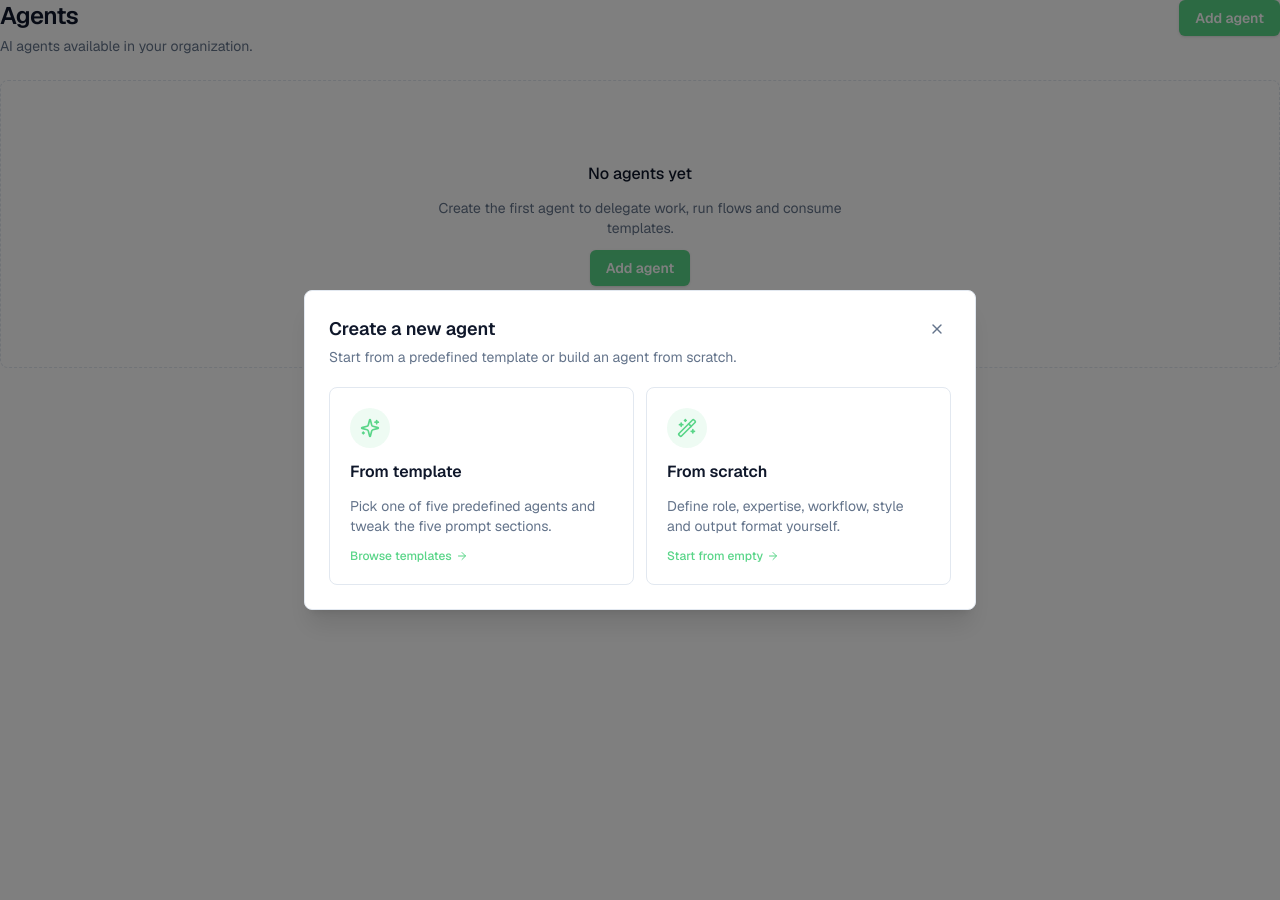
Test case: AgentsListPage › should close the dialog and navigate back to /agents when Close is clicked
This screenshot has width=1280, height=900.
Click the button named "close".
click(937, 329)  # box 923,315 -> 951,343
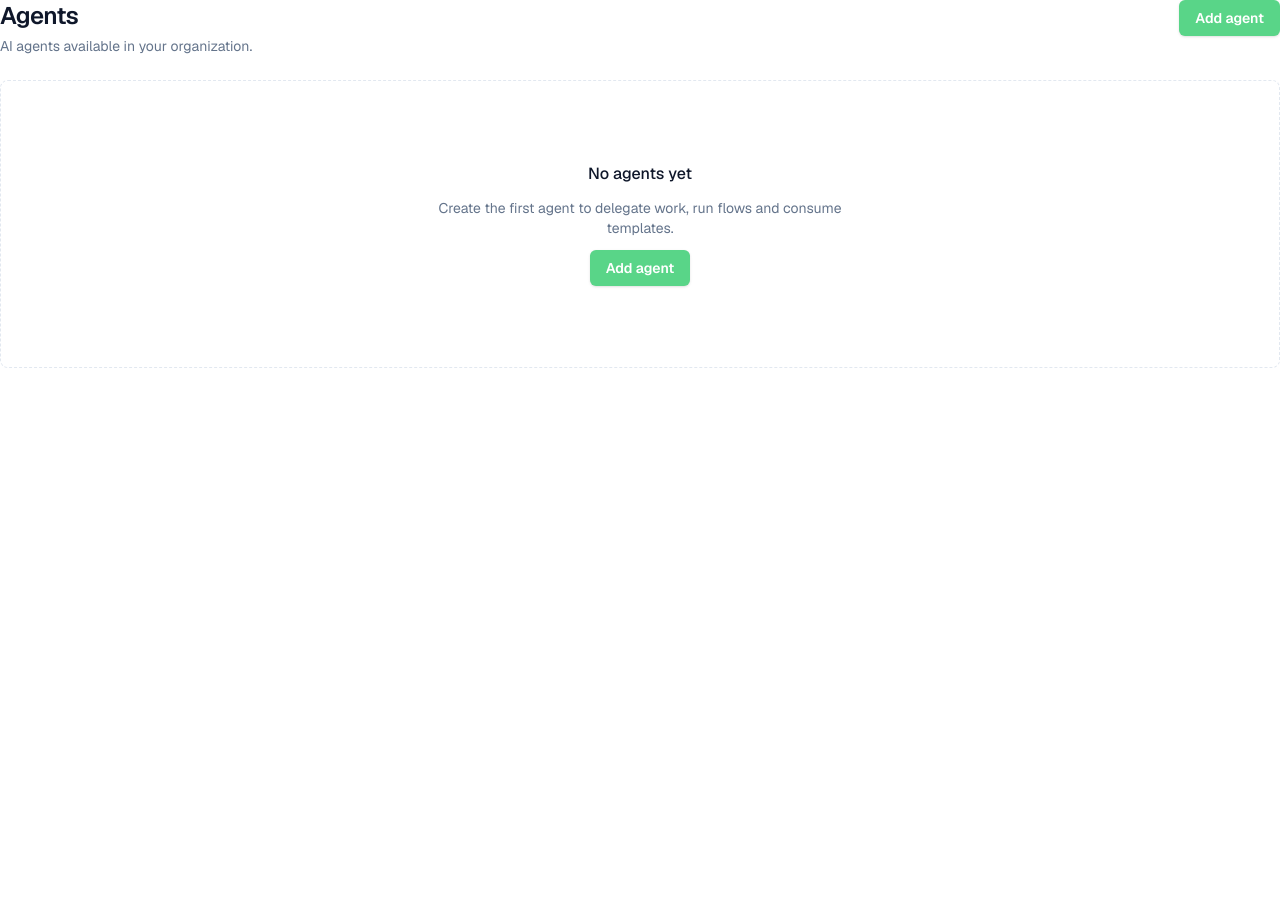
Now the dialog is gone
